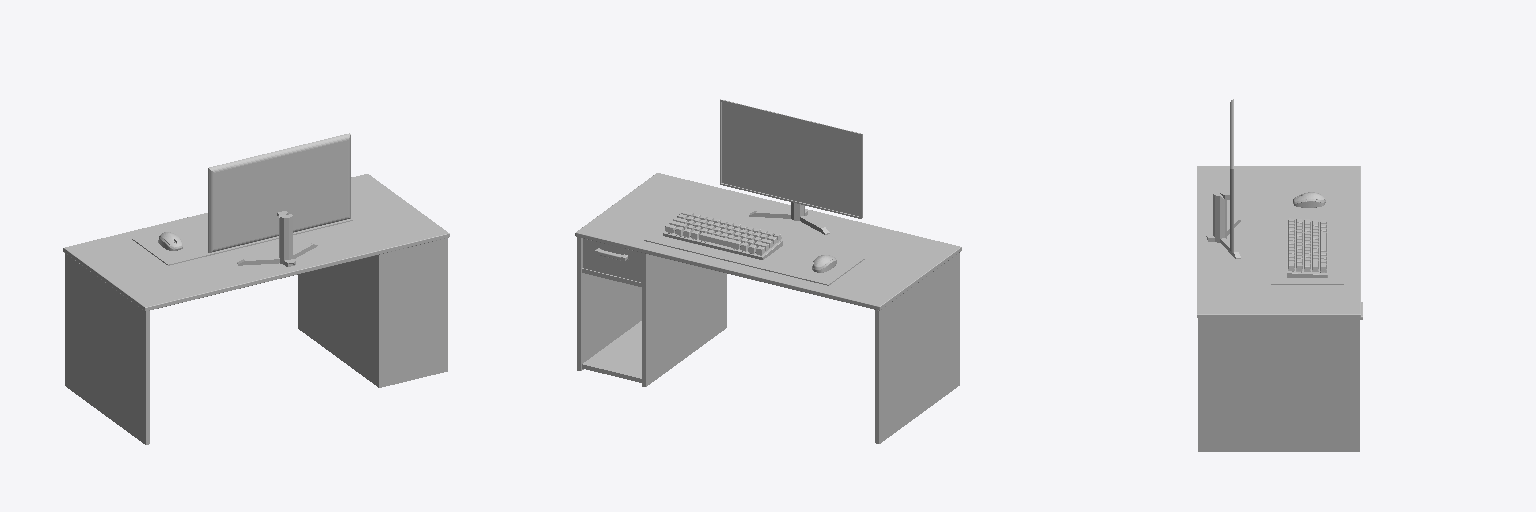
File: desk2.obj
3 views of the same model, side by side, from view 1: azimuth 30°, elevation 25°; view 2: azimuth 150°, elevation 25°; view 3: azimuth 270°, elevation 25° (orthographic).
Visible parts, largest first — view 1: desk, frame, carpet, foot; view 2: desk, screen, carpet, desk_drawer, frame, foot, keyboard_53; view 3: desk, carpet, foot, frame.
Part boxes in pixels (x1,y1,x2,y2): desk: (63, 174, 449, 444); frame: (208, 133, 350, 252); carpet: (133, 219, 350, 263); foot: (237, 211, 317, 266); desk: (575, 173, 961, 443); screen: (722, 102, 859, 216); carpet: (645, 217, 862, 283); desk_drawer: (583, 239, 641, 282); frame: (720, 99, 862, 218); foot: (749, 202, 829, 234); keyboard_53: (663, 231, 782, 259); desk: (1197, 166, 1360, 451); carpet: (1272, 194, 1342, 283); foot: (1206, 190, 1240, 258); frame: (1230, 99, 1233, 252).
Size of the model in its own units: 150 by 115 by 71.